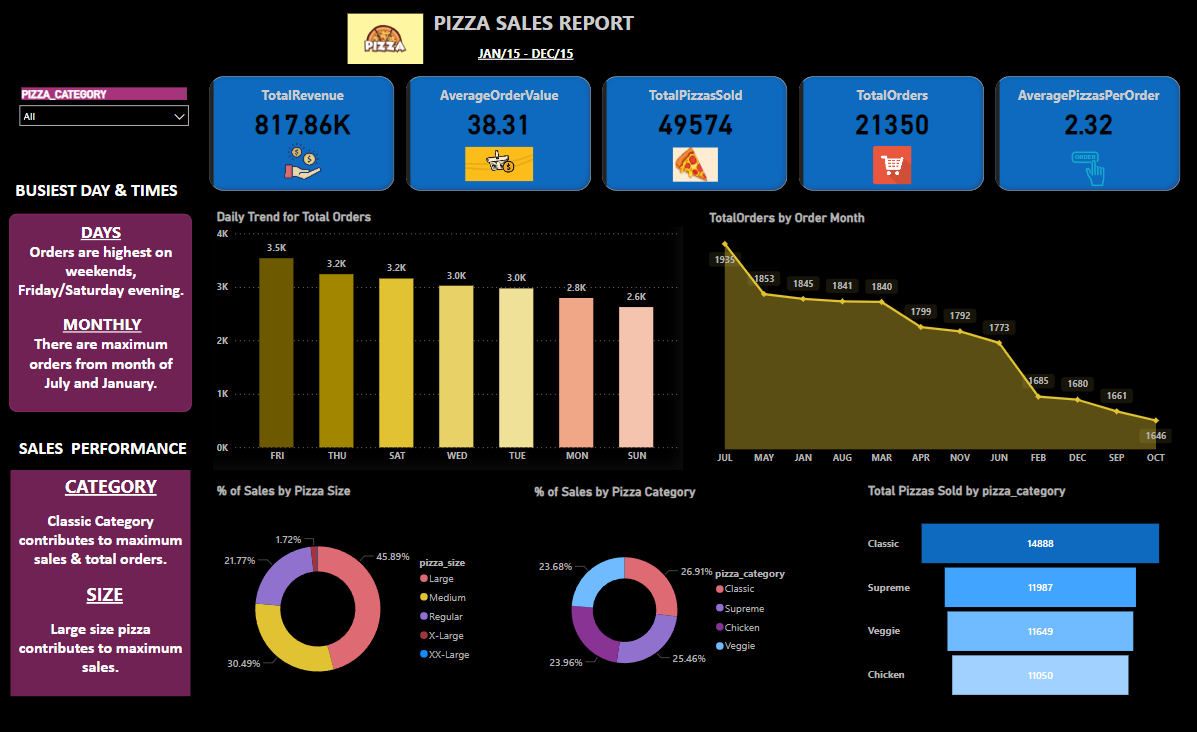

The dashboard page shown, as its layout file describes it:
{"tool":"powerbi","page":{"name":"Pizza_Sales_Dashboard","canvas":[1600,1000],"ordinal":0},"visuals":[{"type":"cardVisual","fields":{"Data":["pizza_sales.TotalRevenue","pizza_sales.AverageOrderValue","pizza_sales.TotalPizzasSold","pizza_sales.TotalOrders","pizza_sales.AveragePizzasPerOrder"]},"box":[276.7,96.7,1305,163.3],"z":0},{"type":"textbox","box":[501.7,6.7,368.3,48.3],"z":2000},{"type":"textbox","box":[635,55,148.3,35],"z":3000},{"type":"columnChart","title":"Daily Trend for Total Orders","fields":{"Category":["pizza_sales.OrderDay"],"Y":["pizza_sales.TotalOrders"]},"box":[286.7,278.3,626.7,348.3],"z":4000},{"type":"areaChart","fields":{"Category":["pizza_sales.Order Month"],"Y":["pizza_sales.TotalOrders"]},"box":[943.3,280,626.7,348.3],"z":5000},{"type":"donutChart","title":"% of Sales by Pizza Category","fields":{"Category":["pizza_sales.pizza_category"],"Y":["pizza_sales.TotalRevenue"]},"box":[710,645,360,318.3],"z":6000},{"type":"donutChart","title":"% of Sales by Pizza Size","fields":{"Category":["pizza_sales.pizza_size"],"Y":["pizza_sales.TotalRevenue"]},"box":[286.7,643.3,360,318.3],"z":7000},{"type":"funnel","title":"Total Pizzas Sold by pizza_category","fields":{"Category":["pizza_sales.pizza_category"],"Y":["pizza_sales.TotalPizzasSold"]},"box":[1155,643.3,403.3,318.3],"z":8000},{"type":"textbox","box":[13.3,233.3,240,51.7],"z":9000},{"type":"textbox","box":[14.3,285.7,242.9,264.3],"z":10000},{"type":"textbox","box":[13.8,576.2,243.8,67.5],"z":11000},{"type":"image","box":[133.3,13.3,766.7,76.7],"z":12000},{"type":"textbox","box":[17.1,627.1,240,301.4],"z":13000},{"type":"slicer","title":"Pizza Category","fields":{"Values":["pizza_sales.pizza_category"]},"box":[17.5,111.2,246.2,66.2],"z":20000}]}

Visuals, with their boxes in screenshot pixels (x1, y1, x2, y2), scaled from the page's 1600x1000 canvas onto the 1197x732 screenshot:
cardVisual - pizza_sales.TotalRevenue x pizza_sales.AverageOrderValue: x1=207 y1=71 x2=1183 y2=190
textbox: x1=375 y1=5 x2=651 y2=40
textbox: x1=475 y1=40 x2=586 y2=66
"Daily Trend for Total Orders" columnChart: x1=214 y1=204 x2=683 y2=459
areaChart - pizza_sales.Order Month x pizza_sales.TotalOrders: x1=706 y1=205 x2=1175 y2=460
"% of Sales by Pizza Category" donutChart: x1=531 y1=472 x2=800 y2=705
"% of Sales by Pizza Size" donutChart: x1=214 y1=471 x2=484 y2=704
"Total Pizzas Sold by pizza_category" funnel: x1=864 y1=471 x2=1166 y2=704
textbox: x1=10 y1=171 x2=190 y2=209
textbox: x1=11 y1=209 x2=192 y2=403
textbox: x1=10 y1=422 x2=193 y2=471
image: x1=100 y1=10 x2=673 y2=66
textbox: x1=13 y1=459 x2=192 y2=680
"Pizza Category" slicer: x1=13 y1=81 x2=197 y2=130
